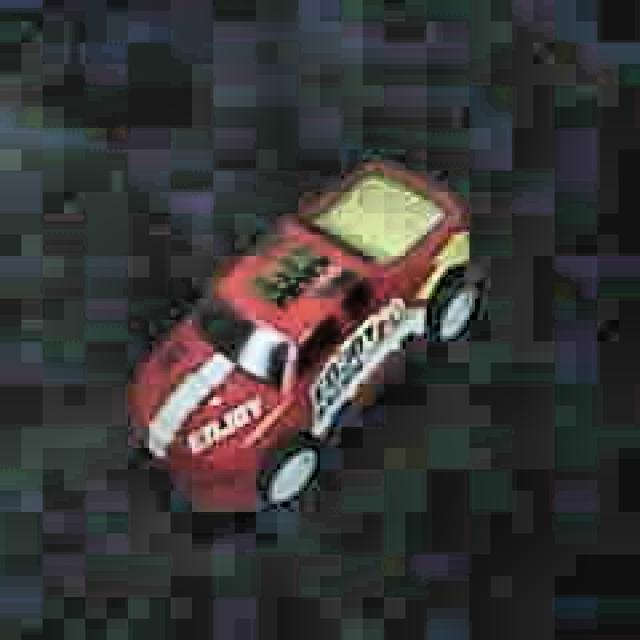car: (124, 151, 483, 518)
